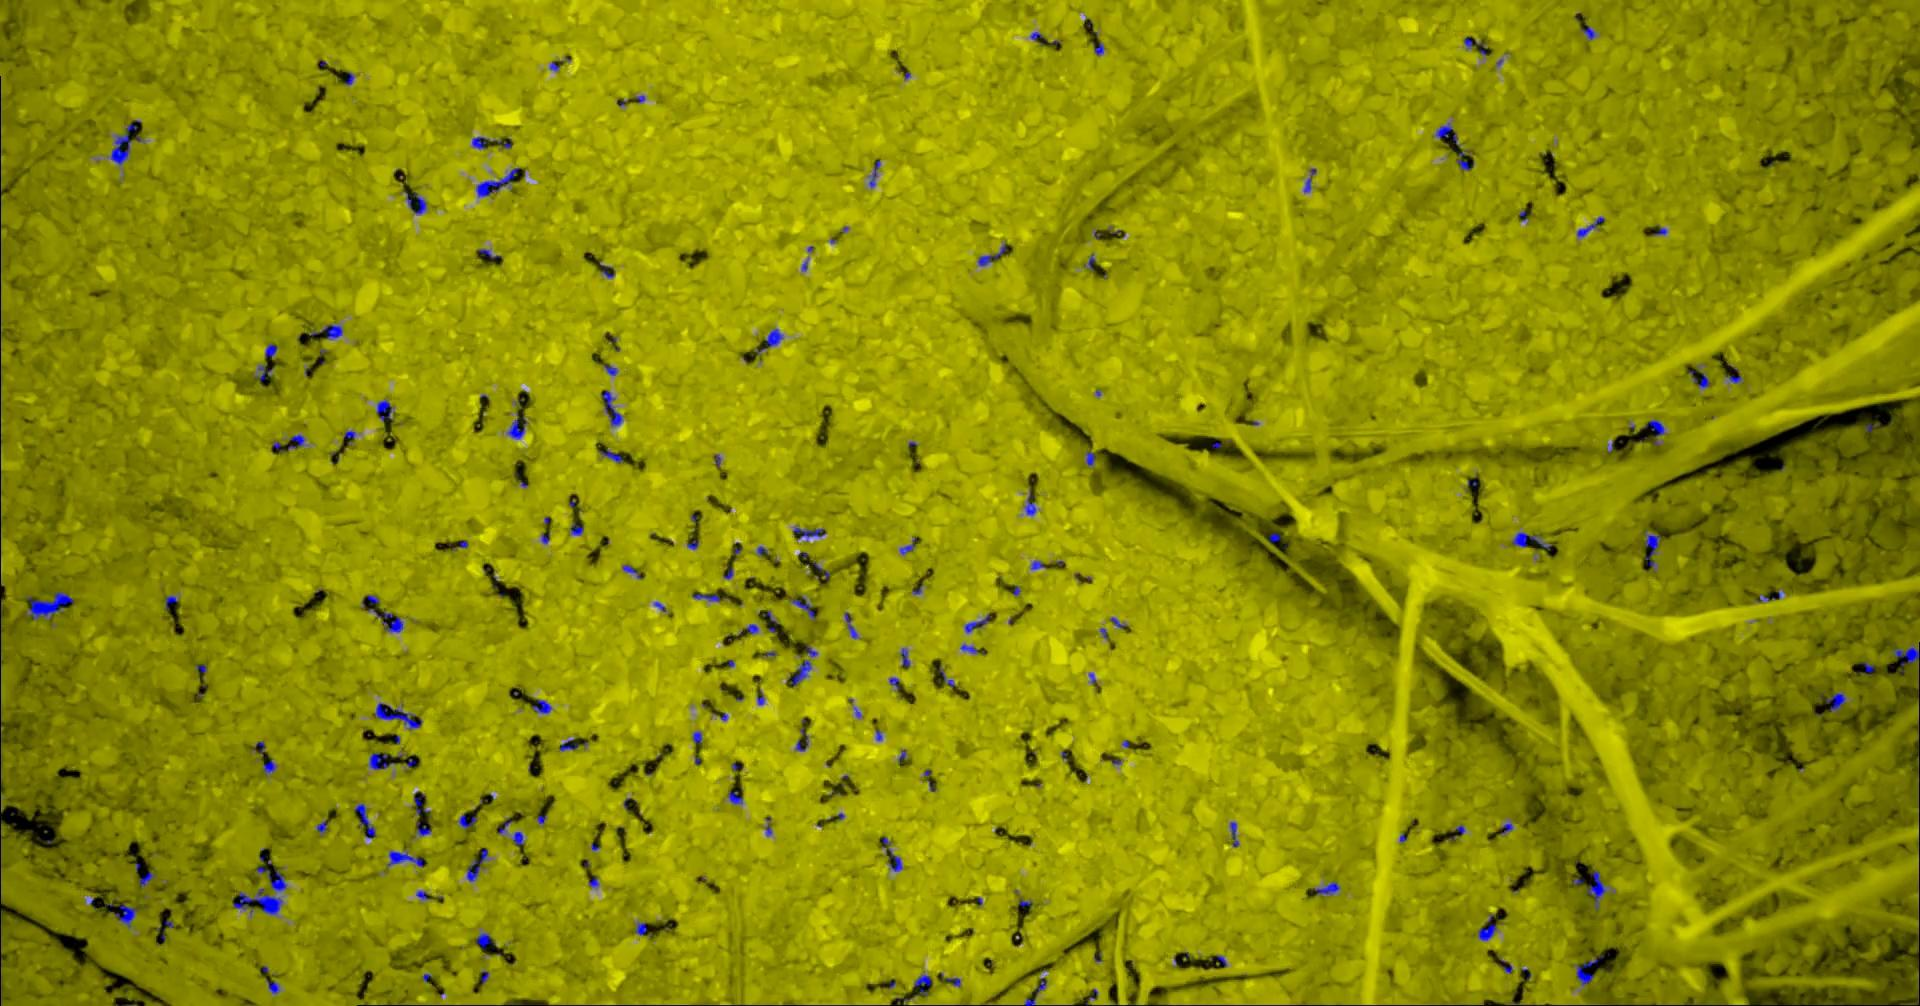ant: (110, 119, 143, 164), (232, 888, 282, 915), (25, 591, 72, 619), (475, 166, 519, 196), (375, 702, 422, 729), (366, 608, 403, 633), (599, 390, 622, 426), (1586, 870, 1605, 909), (756, 328, 783, 354), (107, 903, 137, 927), (354, 803, 375, 838), (881, 836, 902, 871), (466, 848, 488, 882), (1892, 647, 1919, 673), (257, 866, 286, 890), (977, 243, 1006, 265), (1575, 958, 1597, 984), (1643, 530, 1660, 567), (1576, 216, 1604, 238), (1511, 532, 1550, 547), (270, 434, 303, 452), (387, 850, 423, 866), (790, 659, 811, 686), (507, 412, 526, 439), (1435, 122, 1458, 145), (791, 596, 814, 619), (964, 614, 990, 633), (1477, 913, 1496, 940), (404, 191, 425, 213), (1644, 419, 1663, 445), (413, 791, 430, 814), (792, 526, 824, 539), (368, 752, 392, 768), (471, 136, 502, 149), (1825, 692, 1845, 711), (1688, 370, 1709, 387), (376, 399, 394, 420), (913, 974, 931, 996), (1310, 882, 1338, 894), (476, 932, 497, 949), (320, 324, 342, 339), (844, 612, 857, 638), (869, 159, 880, 187), (599, 448, 622, 462), (1755, 589, 1783, 601), (1457, 150, 1473, 169), (254, 365, 273, 381), (1023, 488, 1035, 514), (559, 738, 585, 749), (1303, 168, 1316, 191), (264, 343, 277, 365), (737, 622, 758, 635), (598, 260, 615, 277), (899, 537, 916, 554), (458, 813, 476, 828), (532, 699, 551, 713), (138, 871, 154, 887), (1498, 956, 1512, 973), (1463, 37, 1481, 50), (1229, 821, 1238, 846), (692, 593, 720, 601), (262, 760, 276, 775), (1581, 25, 1595, 39), (728, 790, 742, 804), (417, 821, 430, 835), (959, 643, 977, 653), (265, 981, 279, 993), (316, 819, 328, 835), (900, 647, 909, 666), (570, 522, 583, 535), (512, 831, 523, 843), (635, 922, 646, 935), (1084, 451, 1095, 465)
